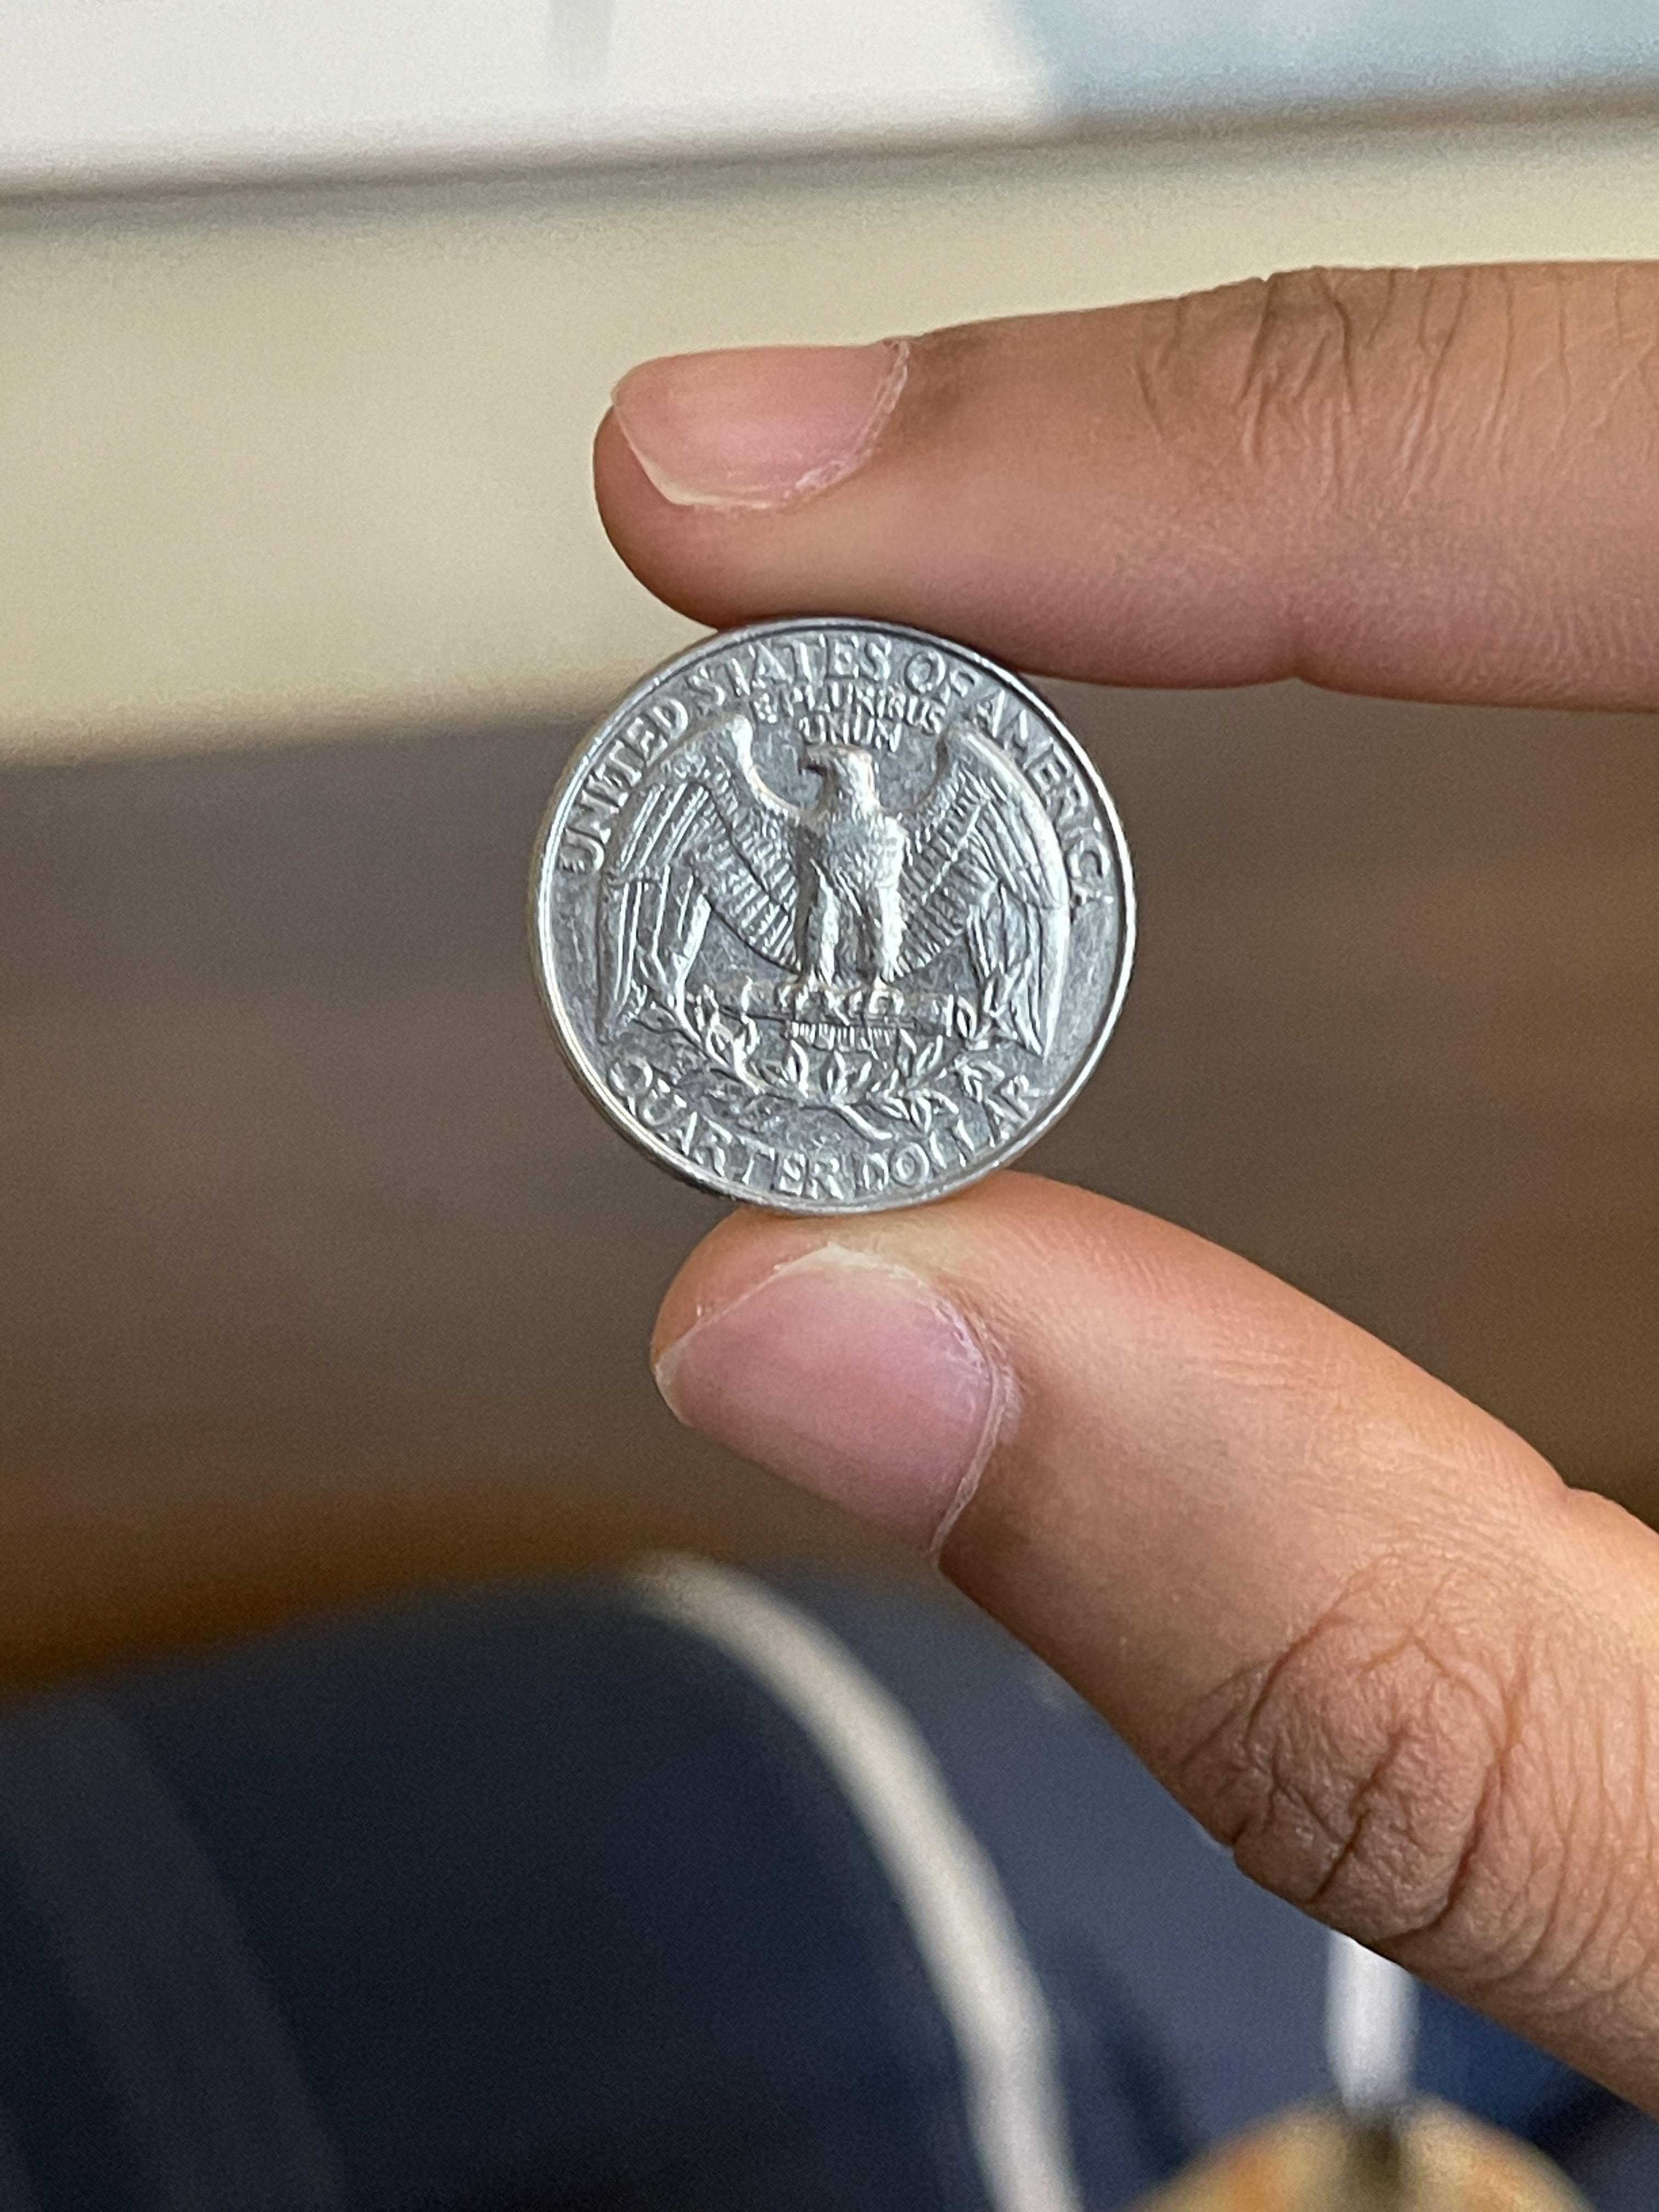Quarter: (525, 613, 1143, 1217)
